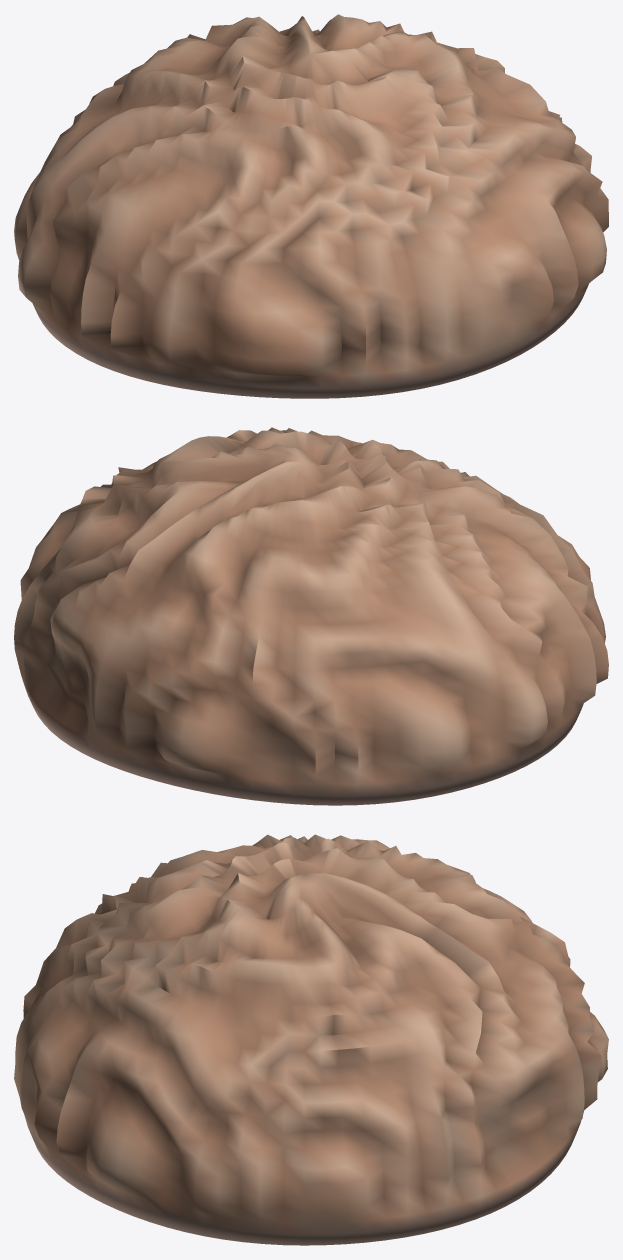
File: coral_brain.glb
The picture shows the model from 3 angles, top to bottom: view 1: azimuth 30°, elevation 25°; view 2: azimuth 150°, elevation 25°; view 3: azimuth 270°, elevation 25°; orthographic projection. The views are drawn at different scales.
Visible parts, largest first — view 1: CoralBrain; view 2: CoralBrain; view 3: CoralBrain.
Boxes of the visible parts, <box> form: CoralBrain: <box>14,14,608,398</box>; CoralBrain: <box>14,427,608,805</box>; CoralBrain: <box>14,834,608,1245</box>.
Size of the model in its own units: 1.24 by 0.5407 by 1.15.
